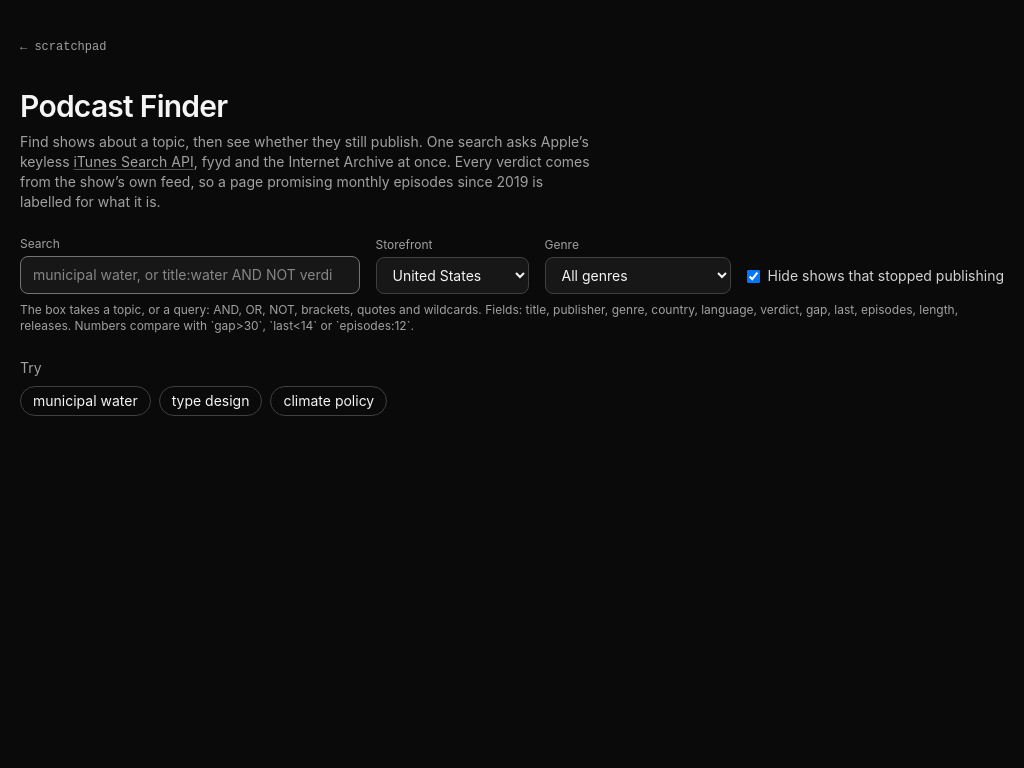
it: PodcastFinderPage › narrows the rows to one publisher when its name is clicked
Step 1. Type "drains" into the search field labelled "Search" → (190, 275), box [20, 256, 360, 294]
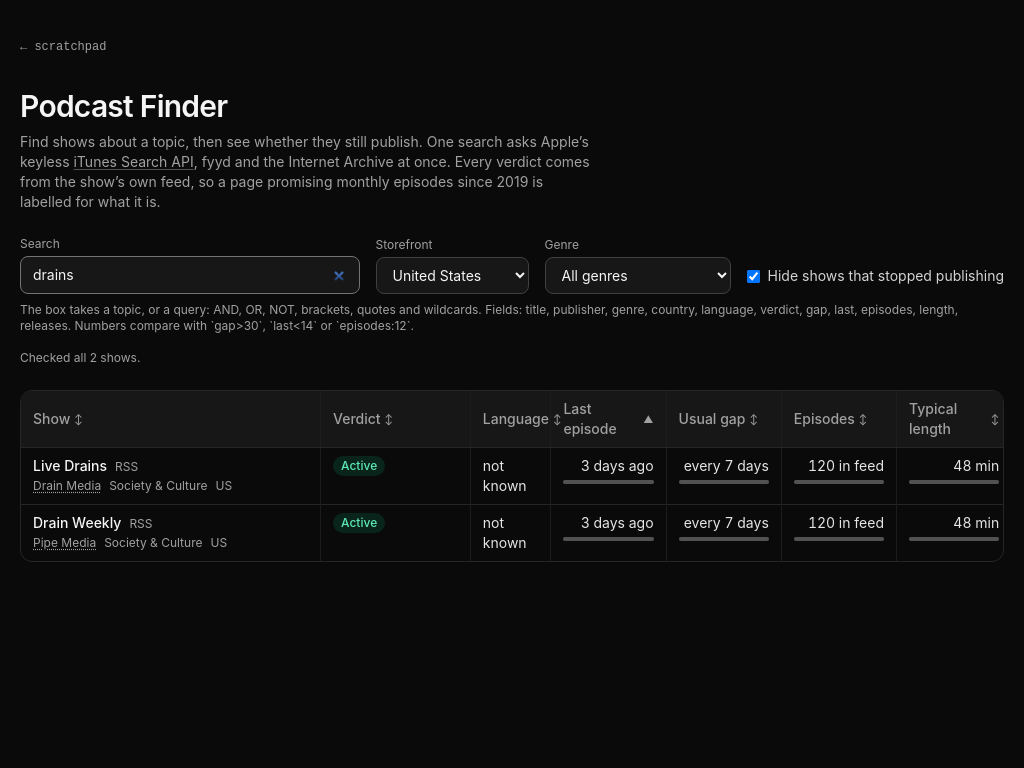
Now the link "Live Drains" is shown, box [33, 456, 107, 476]
Now the link "Drain Weekly" is shown, box [33, 513, 121, 533]
Step 2. Click the button "Drain Media" → (67, 486), box [33, 478, 101, 494]
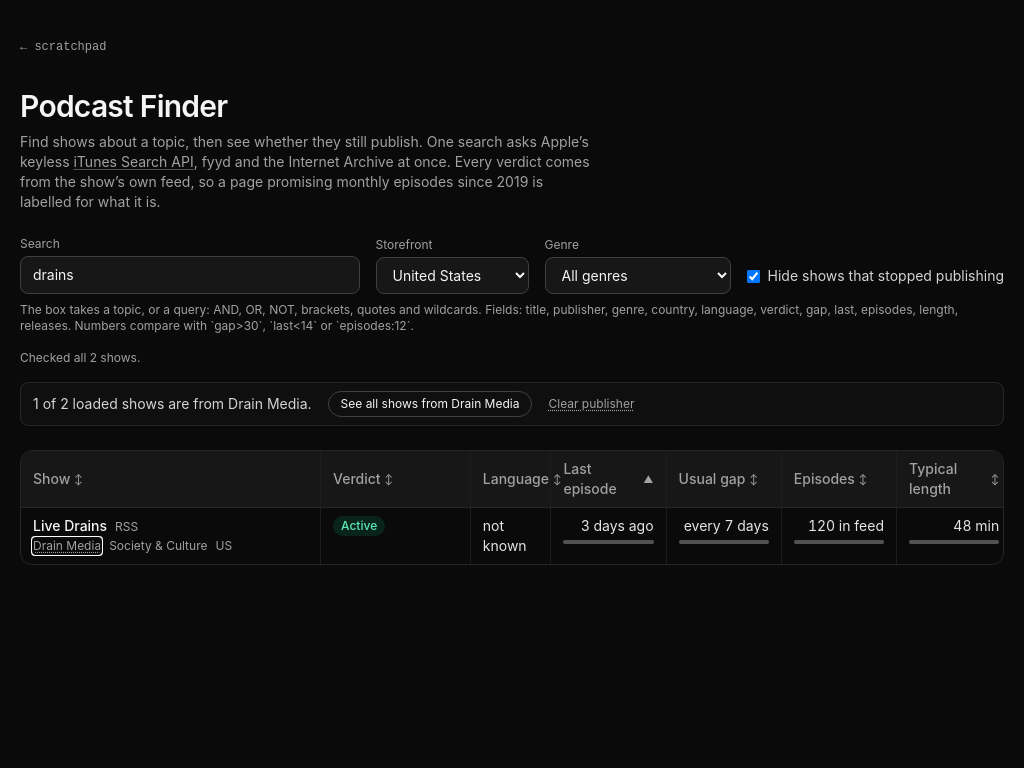
Now the link "Drain Weekly" is gone
Now the text "1 of 2 loaded shows are from Drain Media." is shown, box [33, 394, 312, 414]
